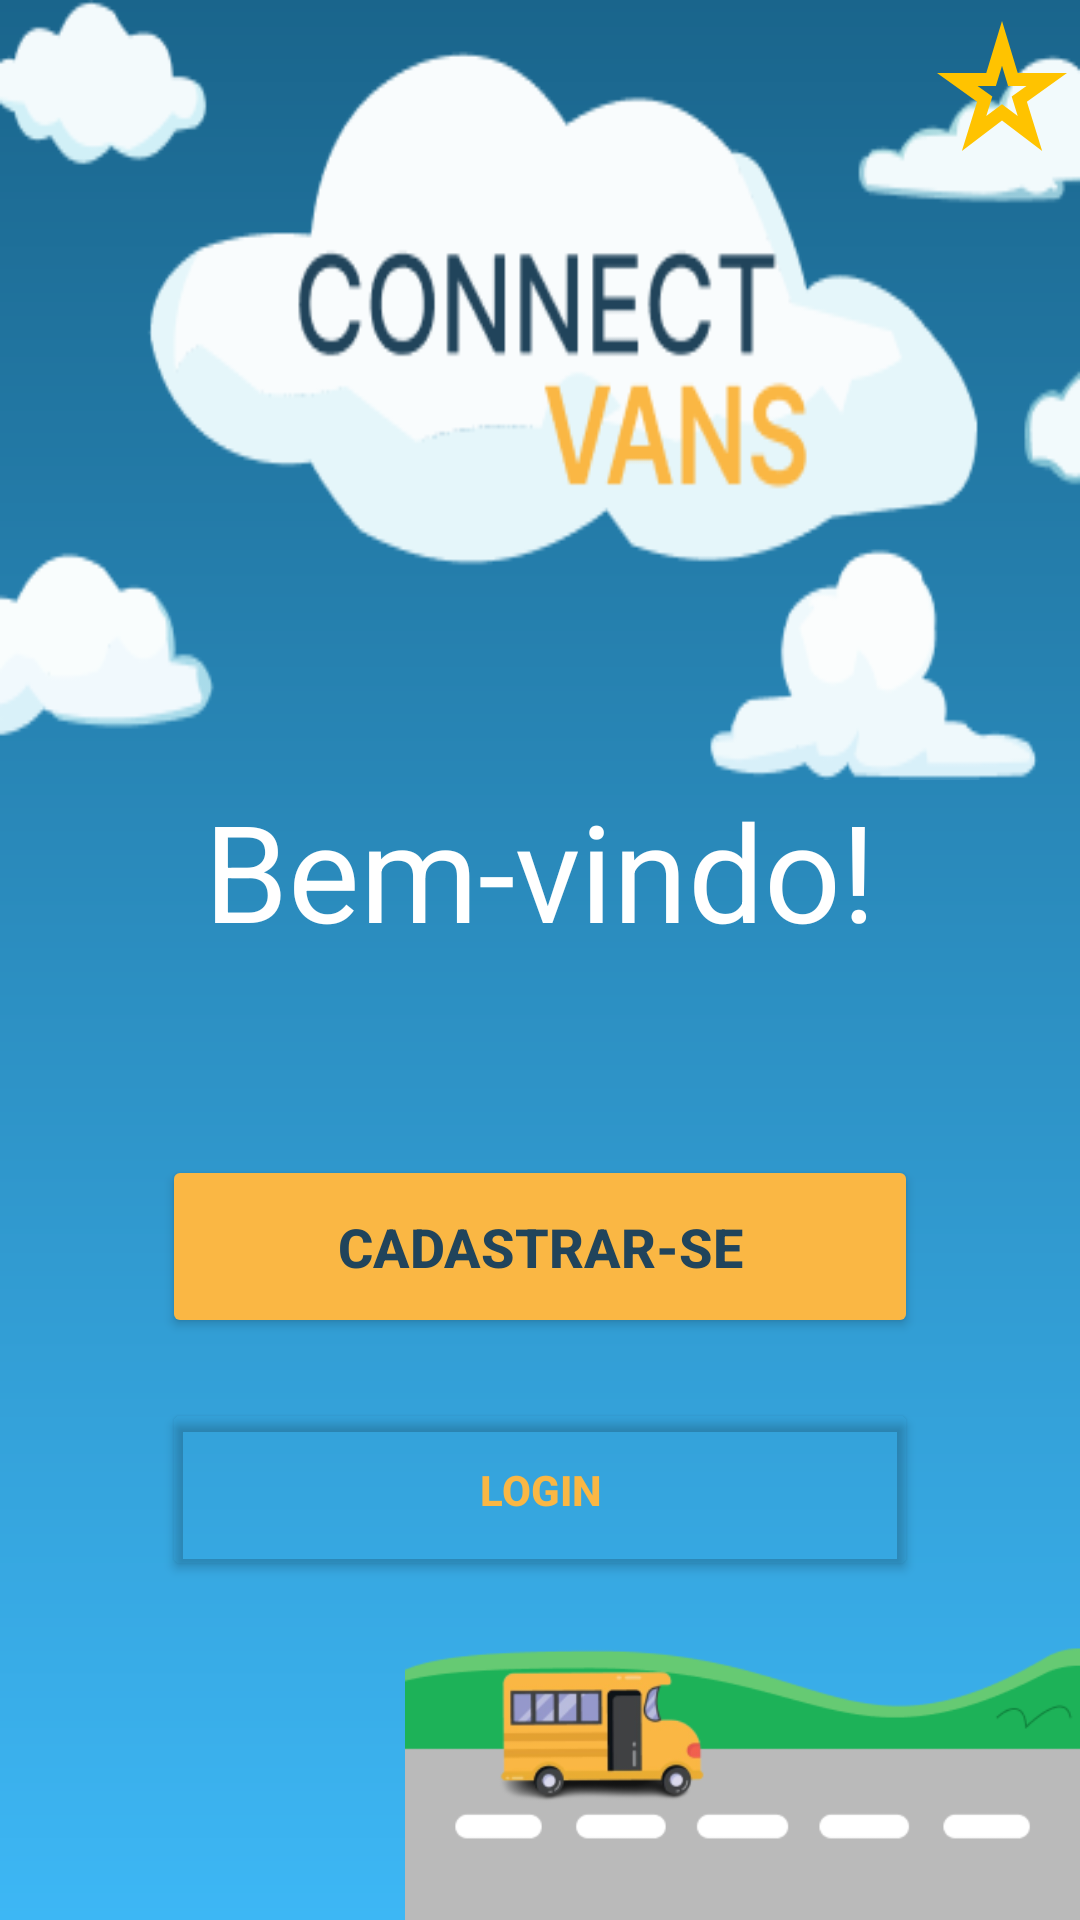

Screen size 1080 x 1920. Icon name, then its center in pixels as [x,y]:
star: [1002,85]
